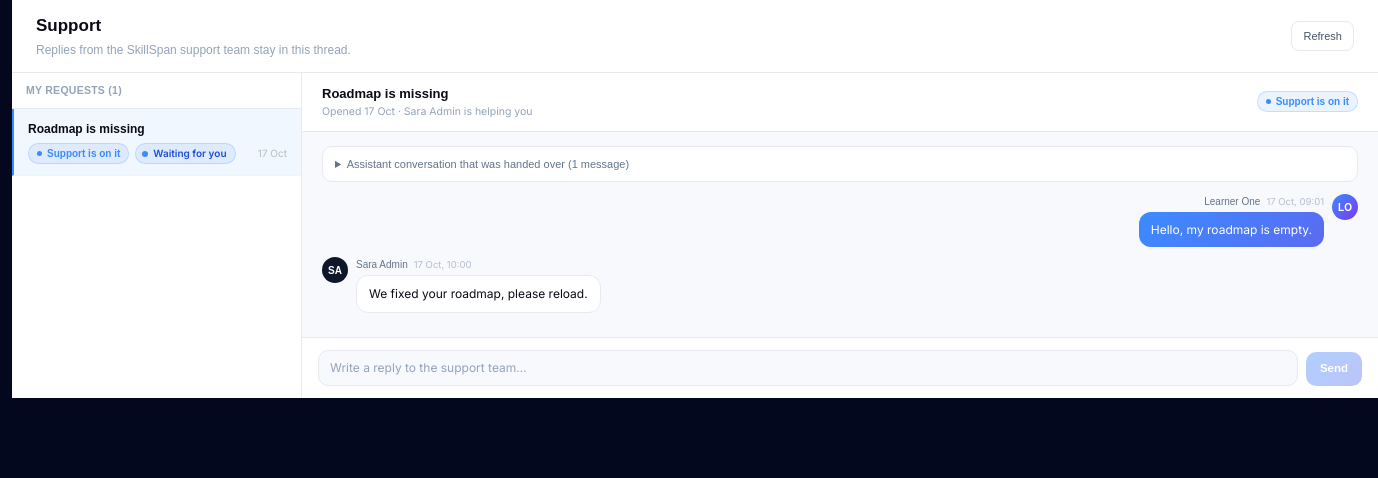
it: learner support thread › sends a reply and appends it to the thread
expect the text "We fixed your roadmap, please reload." is shown: met, box 356,275 -> 601,313
Type "Thanks, it works now." into the text box with placeholder "Write a reply to the support team…" at (808, 368), box 318,350 -> 1298,386
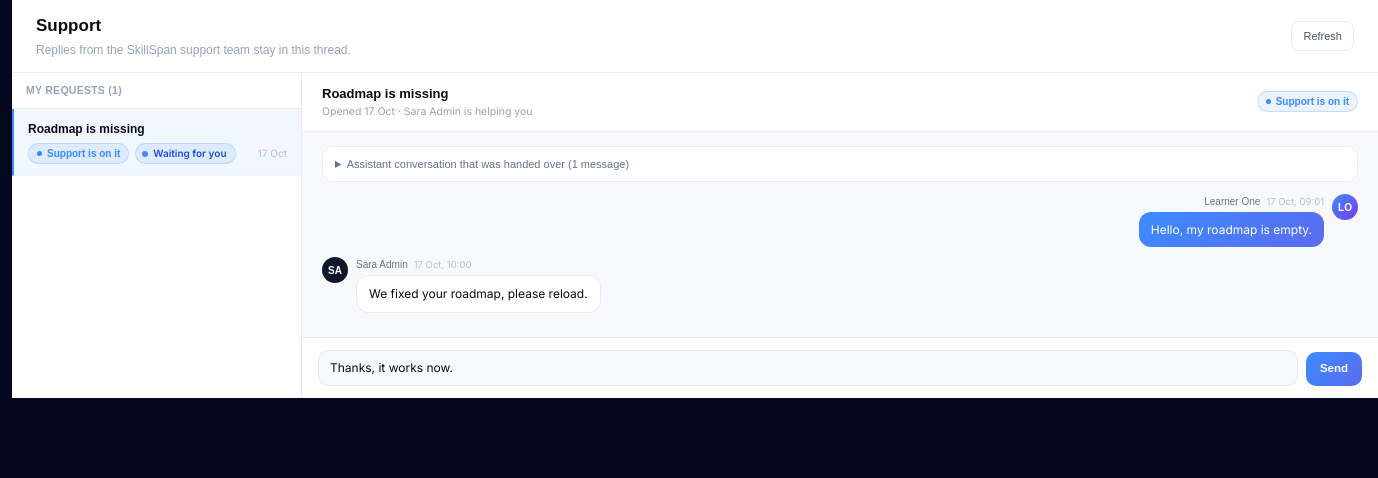
Click the button "Send" at (1334, 369), box 1306,352 -> 1362,386
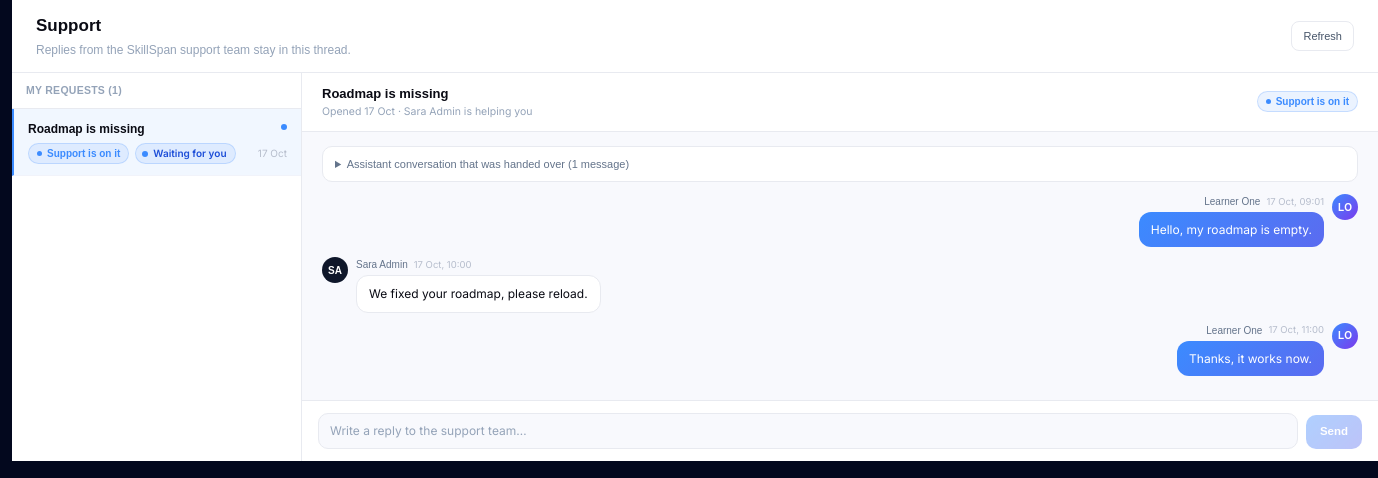
expect the text "Thanks, it works now." is shown: met, box 1177,341 -> 1324,376
